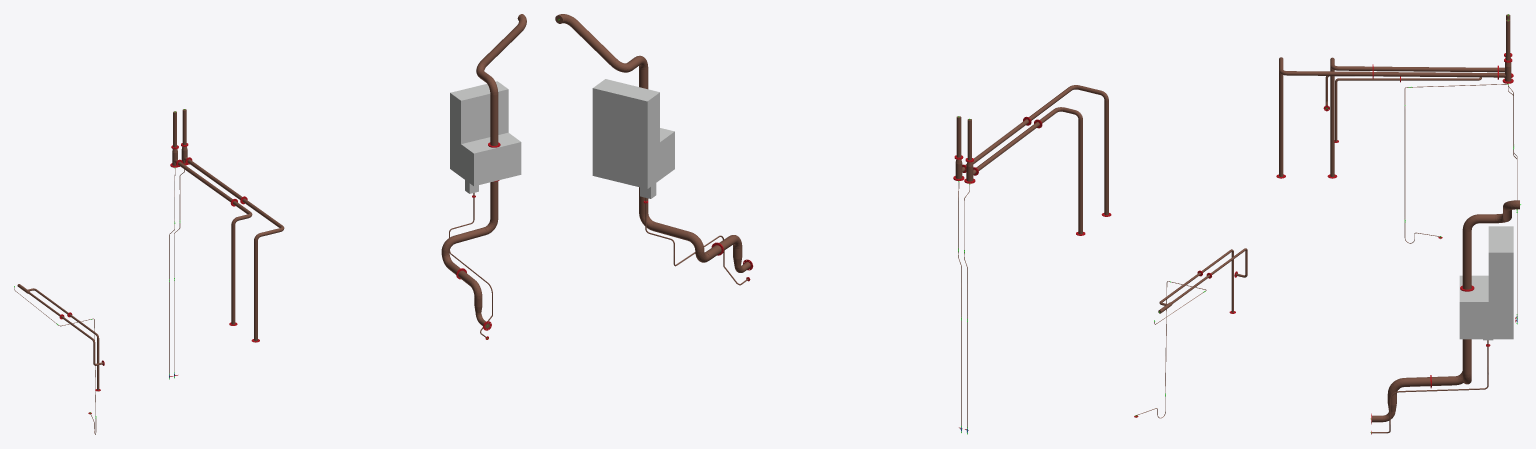
File: Phase44 (2).fbx
3 renders of one model, left to right at view 1: azimuth 30°, elevation 25°; view 2: azimuth 150°, elevation 25°; view 3: azimuth 270°, elevation 25°, orthographic. The views are drawn at different scales.
Visible parts, largest first — view 1: Корпус, Типы трубопроводов:CPS_Бесшовная труба из нс:1476986; view 2: Корпус; view 3: Корпус, Типы трубопроводов:CPS_Бесшовная труба из нс:1278402 (×3), Типы трубопроводов:CPS_Бесшовная труба из нс:1365415, Типы трубопроводов:CPS_Бесшовная труба из нс:1476986, Типы трубопроводов:CPS_Бесшовная труба из нс:1477214, Типы трубопроводов:CPS_Бесшовная труба из нс:1291446, 48.53.02.00.014 Трубопровод:48.53.02.00.014 Трубопровод:1453, Типы трубопроводов:CPS_Бесшовная труба из нс:1354505.
Boxes of the visible parts, <box> form: Корпус: <box>450,81,521,193</box>; Типы трубопроводов:CPS_Бесшовная труба из нс:1476986: <box>231,225,235,324</box>; Корпус: <box>592,79,674,198</box>; Корпус: <box>1459,226,1513,340</box>; Типы трубопроводов:CPS_Бесшовная труба из нс:1278402 (×3): <box>1373,66,1497,374</box>; Типы трубопроводов:CPS_Бесшовная труба из нс:1365415: <box>1373,72,1497,77</box>; Типы трубопроводов:CPS_Бесшовная труба из нс:1476986: <box>1330,67,1334,176</box>; Типы трубопроводов:CPS_Бесшовная труба из нс:1477214: <box>1279,71,1283,176</box>; Типы трубопроводов:CPS_Бесшовная труба из нс:1291446: <box>1287,71,1372,76</box>; 48.53.02.00.014 Трубопровод:48.53.02.00.014 Трубопровод:1453: <box>1389,346,1488,420</box>; Типы трубопроводов:CPS_Бесшовная труба из нс:1354505: <box>1404,377,1430,386</box>.
Bounding box in the file's own units: 16352 × 5892 × 8419.
